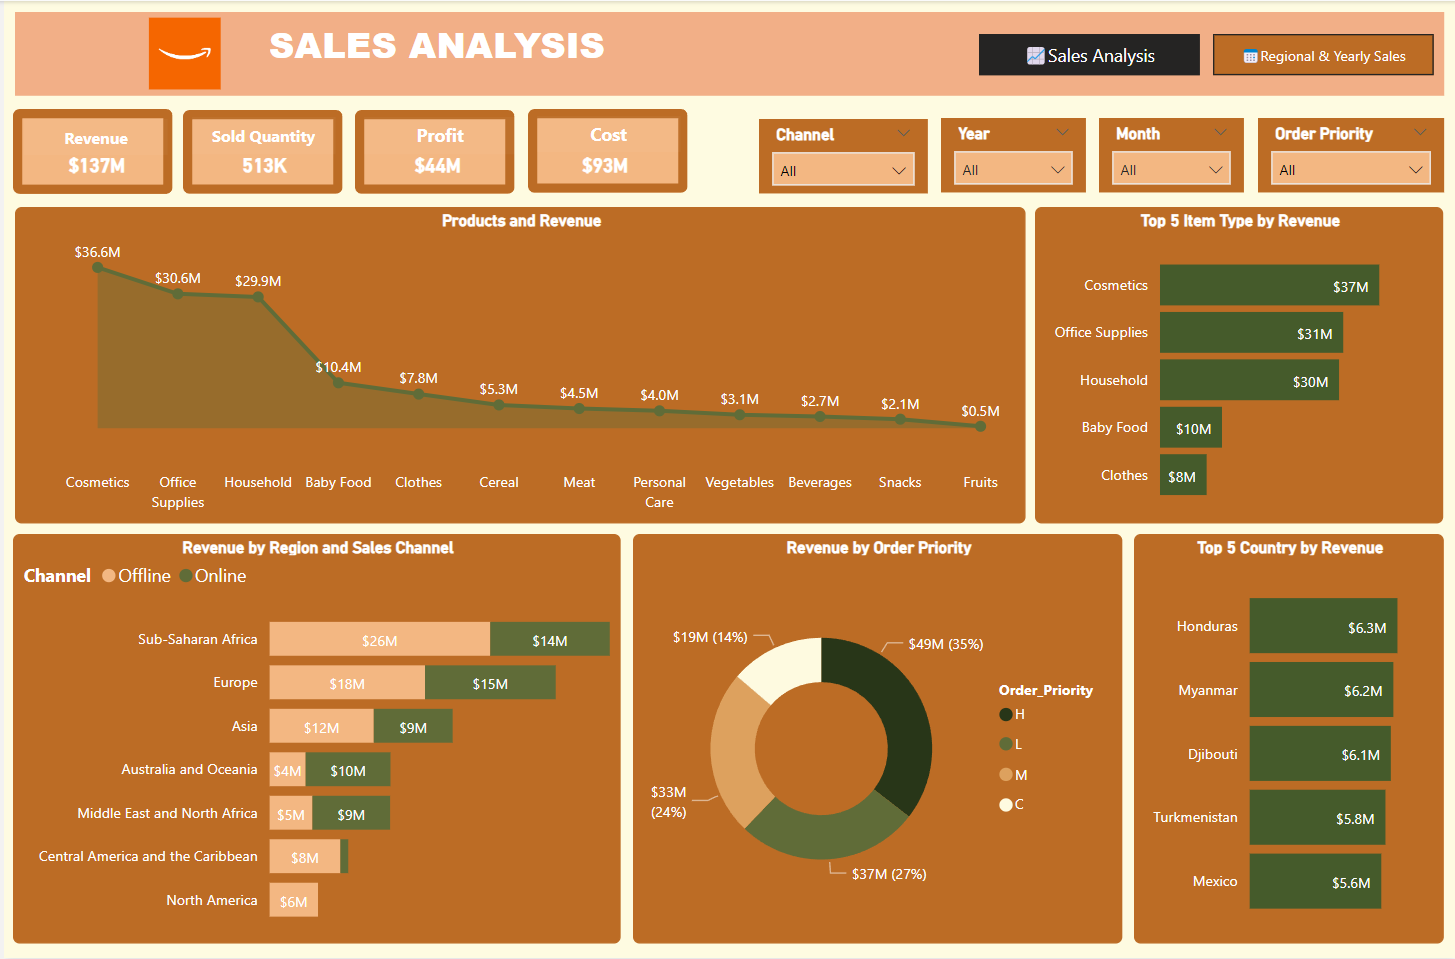

What the dashboard file says about the page in this screenshot:
{"tool":"powerbi","page":{"name":"📈Sales Analysis","canvas":[1092,720],"ordinal":0},"visuals":[{"type":"shape","box":[8.1,8,1074.9,63.1],"z":0,"group":"g5"},{"type":"group","id":"g1","title":"Revenue card","box":[6.9,81.5,120,63.8],"z":0},{"type":"shape","box":[6.9,81.5,120,63.8],"z":0,"group":"g1"},{"type":"shape","box":[393.8,81.5,120,63],"z":0,"group":"g4"},{"type":"shape","box":[134.9,82.1,120,63],"z":0,"group":"g2"},{"type":"shape","box":[263.8,82.3,120,63],"z":0,"group":"g3"},{"type":"textbox","box":[97.6,8.8,376.1,63.8],"z":1000,"group":"g5"},{"type":"group","id":"g2","title":"Sold quantity","box":[134.9,82.1,120,63],"z":1000},{"type":"textbox","box":[15.2,88.8,108.5,26.9],"z":1000,"group":"g1"},{"type":"card","fields":{"Values":["key_measures.Cost"]},"box":[397.6,110.2,108.5,25.4],"z":1000,"group":"g4"},{"type":"card","fields":{"Values":["key_measures.Sold_quantity"]},"box":[141.6,110.6,108.5,25.7],"z":1000,"group":"g2"},{"type":"card","fields":{"Values":["key_measures.Profit"]},"box":[272,110.7,107.8,26.4],"z":1000,"group":"g3"},{"type":"pageNavigator","box":[733.2,24.9,343.1,31.5],"z":2000,"group":"g5"},{"type":"textbox","box":[141.8,87.1,107.7,27.7],"z":2000,"group":"g2"},{"type":"textbox","box":[400.7,87.1,107.7,26.9],"z":2000,"group":"g4"},{"type":"textbox","box":[270.8,87.3,114.6,27.7],"z":2000,"group":"g3"},{"type":"slicer","title":"YearSlicer","fields":{"Values":["Amazon_Sales_data.Year"]},"box":[704.6,88.3,109.2,56.2],"z":2000},{"type":"card","fields":{"Values":["key_measures.Revenue"]},"box":[12.9,111.1,114,26],"z":2000,"group":"g1"},{"type":"image","box":[78.5,7.3,114.4,63.8],"z":3000,"group":"g5"},{"type":"slicer","title":"Month Slicer","fields":{"Values":["Amazon_Sales_data.Month"]},"box":[823.8,88.3,109.2,56.2],"z":3000},{"type":"group","id":"g3","title":"Profit","box":[263.8,82.3,121.6,63],"z":4000},{"type":"group","id":"g4","title":"Cost","box":[393.8,81.5,120,63],"z":5000},{"type":"barChart","title":"Top 5 Country by Revenue","fields":{"Category":["Amazon_Sales_data.Country"],"Y":["Sum(Amazon_Sales_data.Total_Revenue)"]},"box":[849.7,401,233.3,307.8],"z":6000},{"type":"clusteredBarChart","title":"Top 5 Item Type by Revenue","fields":{"Category":["Amazon_Sales_data.Item_Type"],"Y":["Sum(Amazon_Sales_data.Total_Revenue)"]},"box":[775.7,154.7,307.2,237.6],"z":7000},{"type":"stackedAreaChart","title":"Products and Revenue","fields":{"Category":["Amazon_Sales_data.Item_Type"],"Y":["Sum(Amazon_Sales_data.Total_Revenue)"]},"box":[8.1,154.7,760.3,237.6],"z":8000},{"type":"barChart","title":"Revenue by Region and Sales Channel","fields":{"Category":["Amazon_Sales_data.Region"],"Y":["Sum(Amazon_Sales_data.Total_Revenue)"],"Series":["Amazon_Sales_data.Sales_Channel"]},"box":[6.7,401,456.9,307.8],"z":9000},{"type":"donutChart","title":"Revenue by Order Priority","fields":{"Category":["Amazon_Sales_data.Order_Priority"],"Y":["Sum(Amazon_Sales_data.Total_Revenue)"]},"box":[473.3,401,368.2,307.8],"z":10000},{"type":"slicer","title":"YearSlicer","fields":{"Values":["Amazon_Sales_data.Sales_Channel"]},"box":[568.1,88.5,126.7,55.9],"z":11000},{"type":"slicer","title":"Month Slicer","fields":{"Values":["Amazon_Sales_data.Order_Priority"]},"box":[942.9,88,140,56.5],"z":12000},{"type":"group","id":"g5","title":"Title","box":[8.1,7.3,1074.9,65.3],"z":13000}]}

Visuals, with their boxes in screenshot pixels (x1, y1, x2, y2), scaled from the page's 1092x720 canvas onto the 1455x959 screenshot:
shape: region(11, 11, 1443, 95)
"Revenue card" group: region(9, 109, 169, 194)
shape: region(9, 109, 169, 194)
shape: region(525, 109, 685, 192)
shape: region(180, 109, 340, 193)
shape: region(351, 110, 511, 194)
textbox: region(130, 12, 631, 97)
"Sold quantity" group: region(180, 109, 340, 193)
textbox: region(20, 118, 165, 154)
card - key_measures.Cost: region(530, 147, 674, 181)
card - key_measures.Sold_quantity: region(189, 147, 333, 182)
card - key_measures.Profit: region(362, 147, 506, 183)
pageNavigator: region(977, 33, 1434, 75)
textbox: region(189, 116, 332, 153)
textbox: region(534, 116, 677, 152)
textbox: region(361, 116, 514, 153)
"YearSlicer" slicer: region(939, 118, 1084, 192)
card - key_measures.Revenue: region(17, 148, 169, 183)
image: region(105, 10, 257, 95)
"Month Slicer" slicer: region(1098, 118, 1243, 192)
"Profit" group: region(351, 110, 514, 194)
"Cost" group: region(525, 109, 685, 192)
"Top 5 Country by Revenue" barChart: region(1132, 534, 1443, 944)
"Top 5 Item Type by Revenue" clusteredBarChart: region(1034, 206, 1443, 523)
"Products and Revenue" stackedAreaChart: region(11, 206, 1024, 523)
"Revenue by Region and Sales Channel" barChart: region(9, 534, 618, 944)
"Revenue by Order Priority" donutChart: region(631, 534, 1121, 944)
"YearSlicer" slicer: region(757, 118, 926, 192)
"Month Slicer" slicer: region(1256, 117, 1443, 192)
"Title" group: region(11, 10, 1443, 97)
